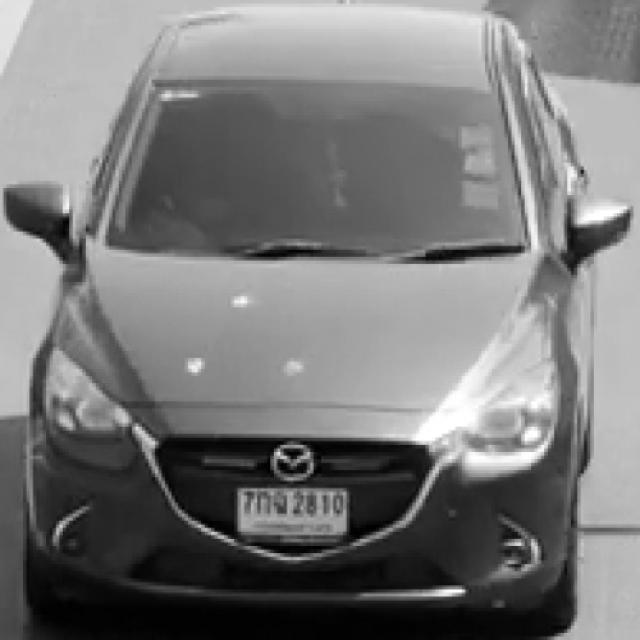plate: (238, 487, 346, 538)
